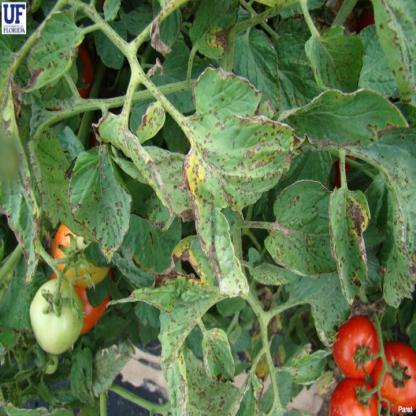tomato leaf bacterial spot: (165, 62, 292, 290), (257, 175, 351, 281), (149, 264, 214, 413), (69, 133, 136, 270), (278, 89, 411, 155), (320, 180, 373, 311), (197, 328, 235, 389)
